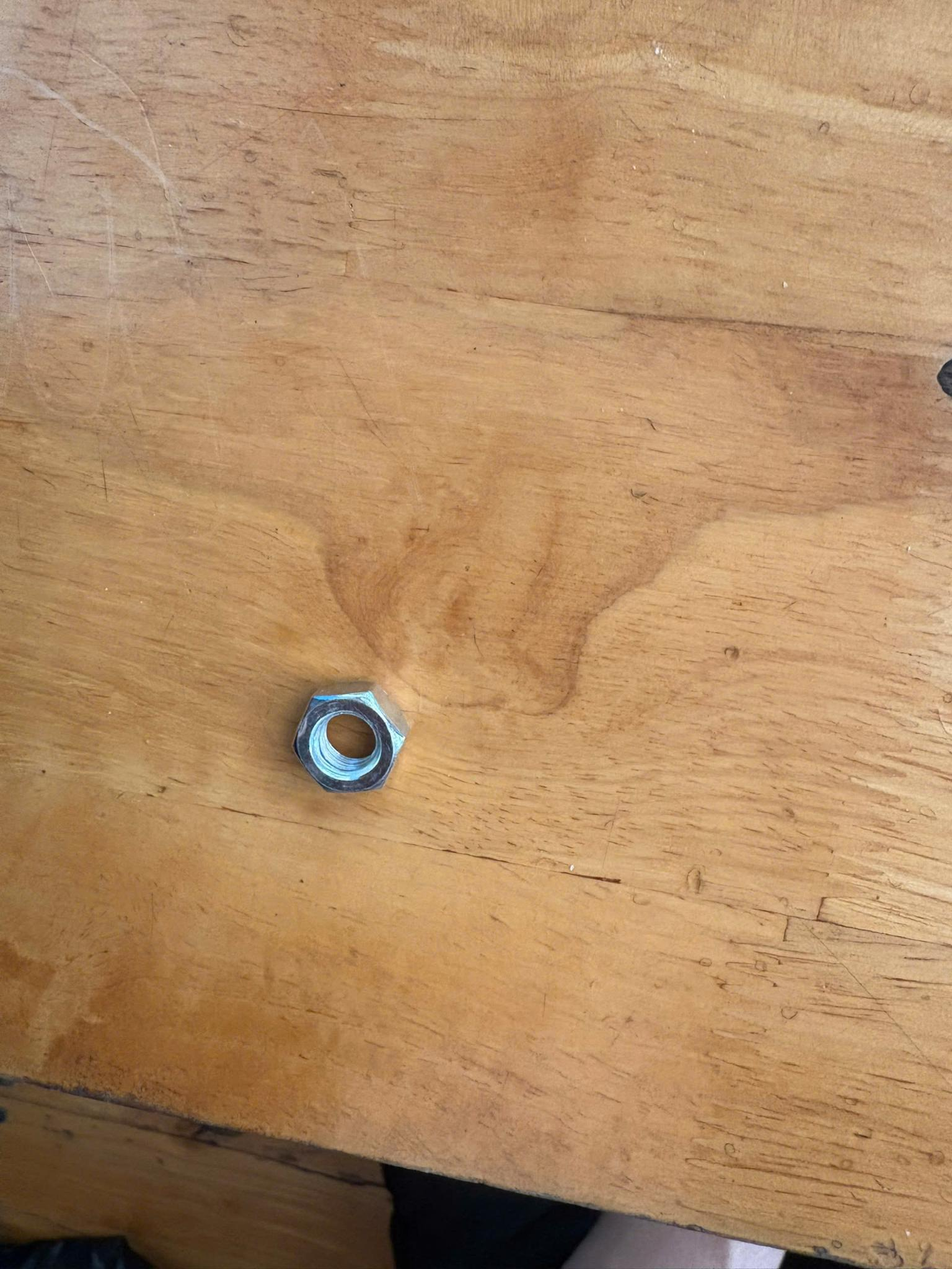nut: (283, 675, 415, 821)
